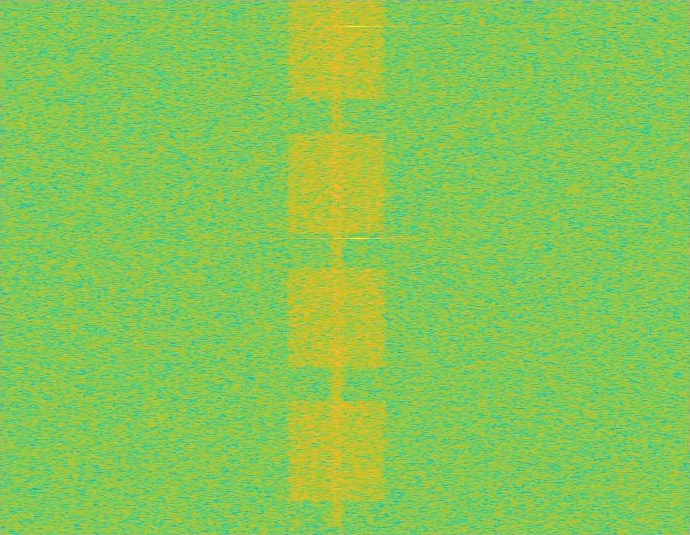5G: (285, 0, 389, 534)
DSSS: (330, 0, 344, 534)
Radar: (351, 0, 364, 534)
